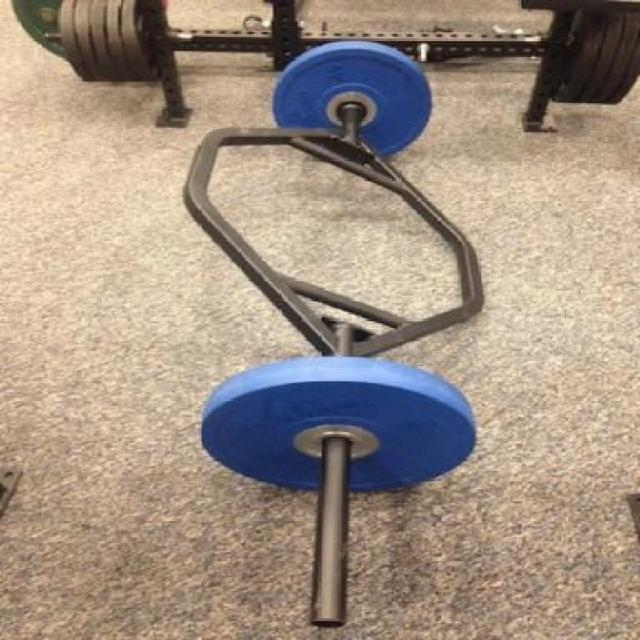barbell: (197, 389, 482, 640)
